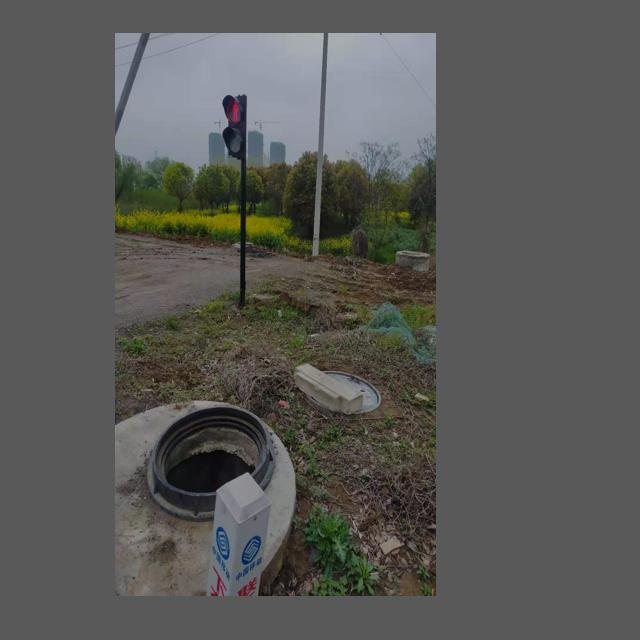lose: (143, 402, 275, 517)
